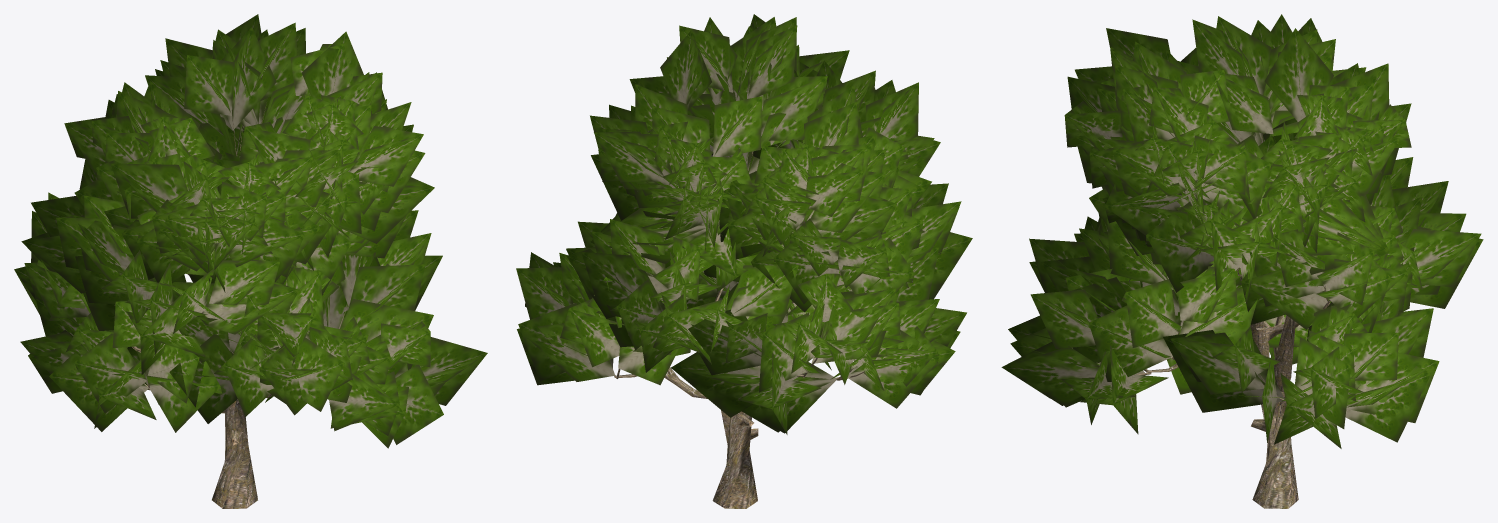
File: Tree4_LOD4.fbx
3 renders of one model, left to right at view 1: azimuth 30°, elevation 25°; view 2: azimuth 150°, elevation 25°; view 3: azimuth 270°, elevation 25°, orthographic. The views are drawn at different scales.
Visible parts, largest first — view 1: oak leaf_2, mossybark02_0; view 2: oak leaf_2, mossybark02_0; view 3: oak leaf_2, mossybark02_0.
Boxes of the visible parts, x1=… form: oak leaf_2: x1=14, y1=14, x2=487, y2=448; mossybark02_0: x1=132, y1=102, x2=397, y2=508; oak leaf_2: x1=516, y1=14, x2=972, y2=434; mossybark02_0: x1=614, y1=95, x2=864, y2=508; oak leaf_2: x1=1001, y1=14, x2=1483, y2=448; mossybark02_0: x1=1098, y1=133, x2=1360, y2=508.
Size of the model in its own units: 1385 by 1483 by 1372.
3 materials, 3 textured.
